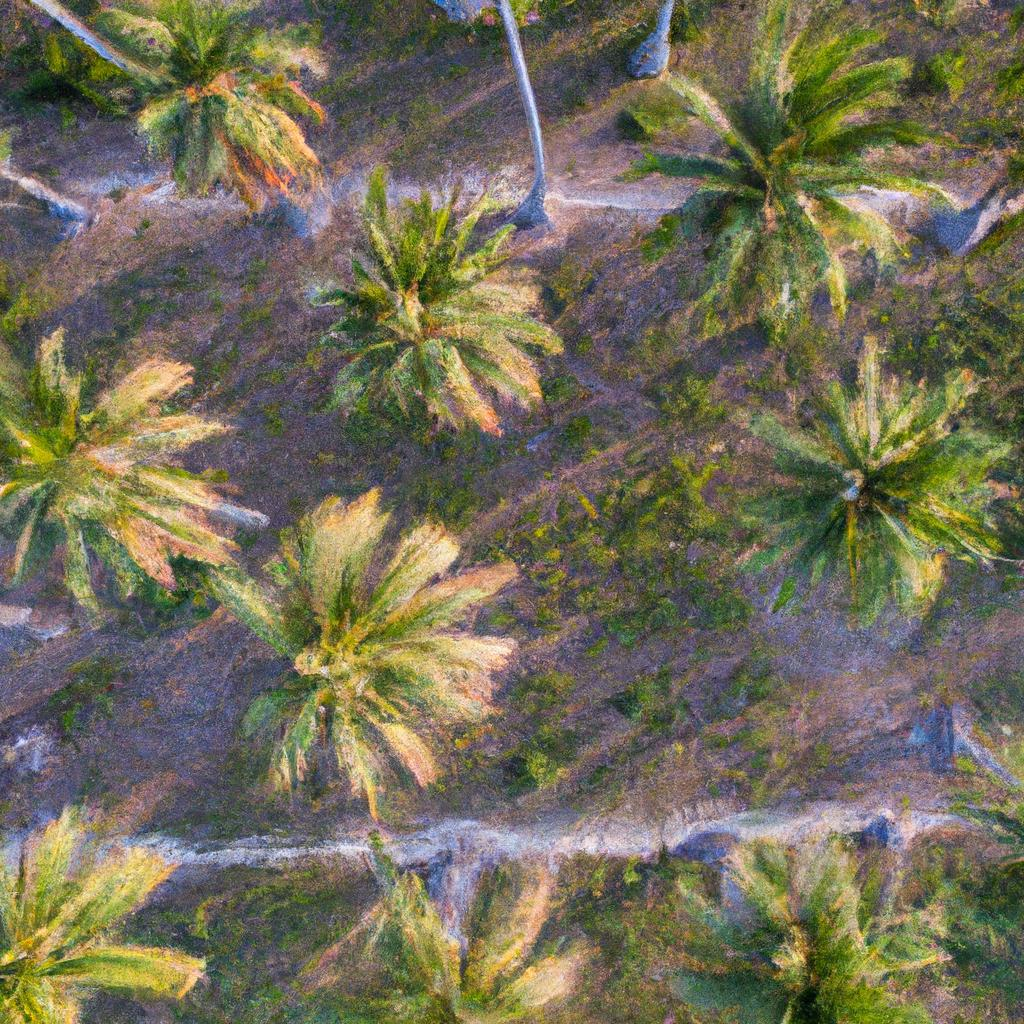coconut_tree: (192, 488, 557, 824), (612, 20, 973, 328), (301, 166, 614, 483), (728, 335, 1023, 661), (0, 316, 255, 623), (116, 0, 324, 212)
